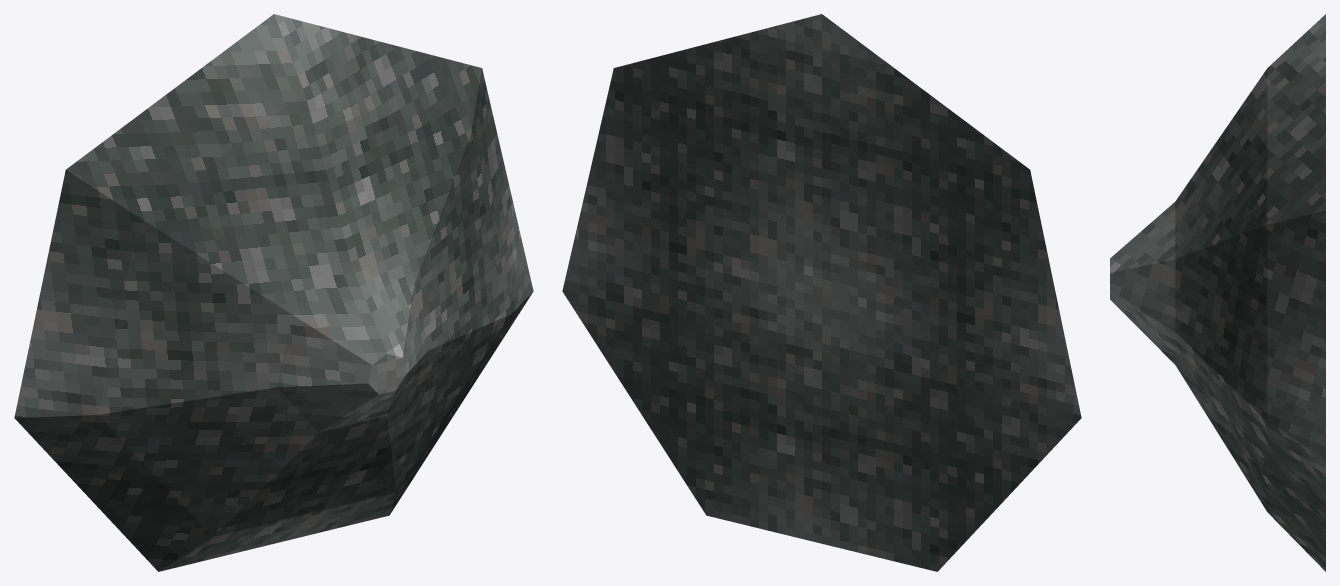
File: zinc.glb
The picture shows the model from 3 angles, left to right: view 1: azimuth 30°, elevation 25°; view 2: azimuth 150°, elevation 25°; view 3: azimuth 270°, elevation 25°; orthographic projection. The views are drawn at different scales.
Visible parts, largest first — view 1: zinc; view 2: zinc; view 3: zinc.
Part boxes in pixels (x1=…): zinc: x1=14, y1=14, x2=533, y2=571; zinc: x1=562, y1=14, x2=1081, y2=571; zinc: x1=1110, y1=14, x2=1325, y2=571.
Bounding box in the file's own units: 0.2183 × 0.2128 × 0.0825.
1 material, 1 textured.
